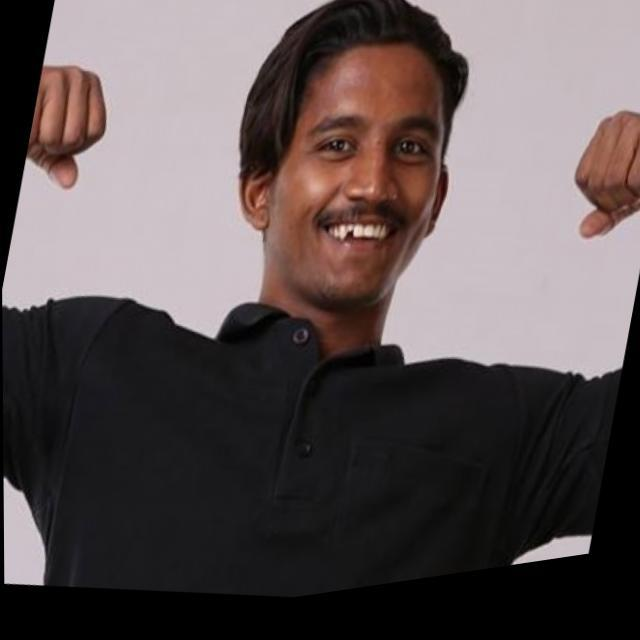Nonhelmet: (232, 0, 473, 312)
